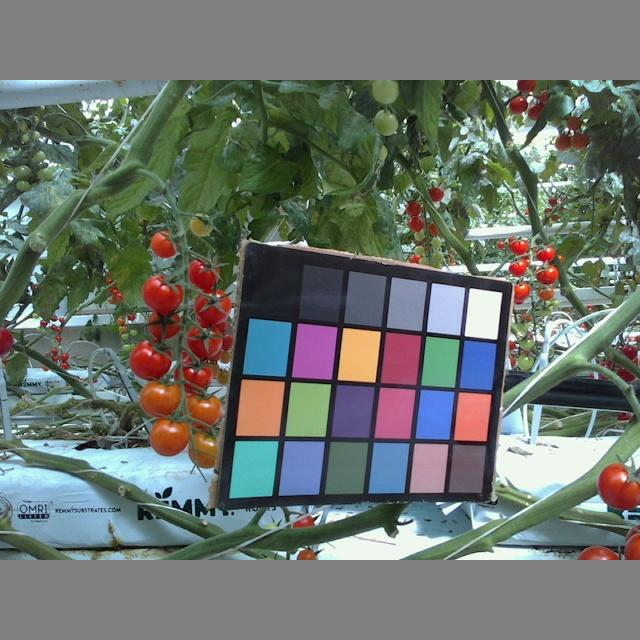green: (372, 81, 401, 106), (373, 109, 397, 137), (189, 215, 215, 239)
pink: (598, 463, 640, 511), (180, 393, 223, 433), (150, 417, 190, 457), (139, 380, 180, 416), (186, 430, 221, 470)
red: (127, 340, 171, 382), (143, 273, 185, 313), (173, 357, 213, 399), (184, 322, 225, 357), (193, 288, 232, 321), (185, 257, 221, 288), (147, 309, 180, 340), (150, 230, 180, 257), (536, 264, 559, 285), (507, 258, 530, 278), (535, 245, 556, 262), (509, 237, 529, 254)
